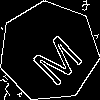M: (24, 26, 85, 88)
